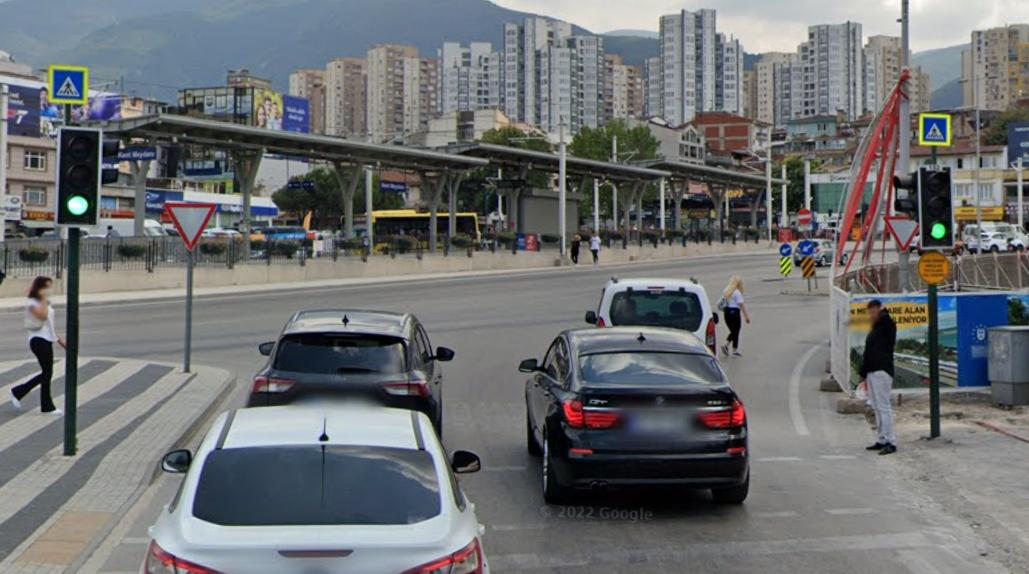greenlight: (59, 126, 101, 229), (918, 164, 954, 246)
